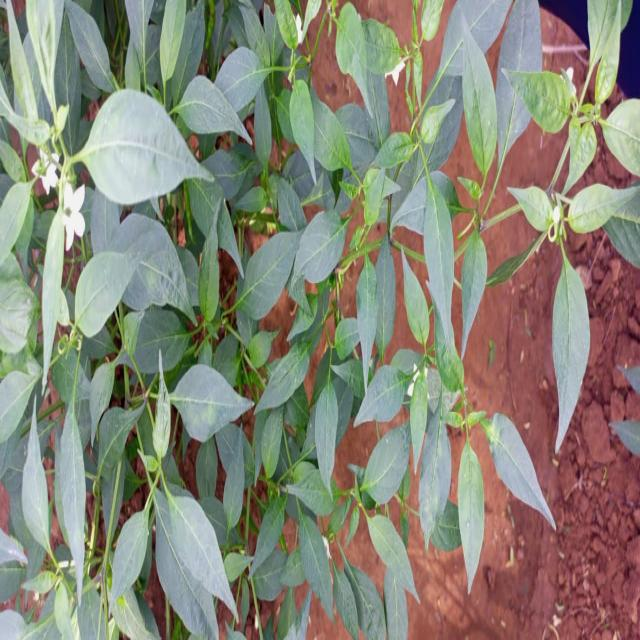Mosaic_virus: (0, 3, 640, 639)
